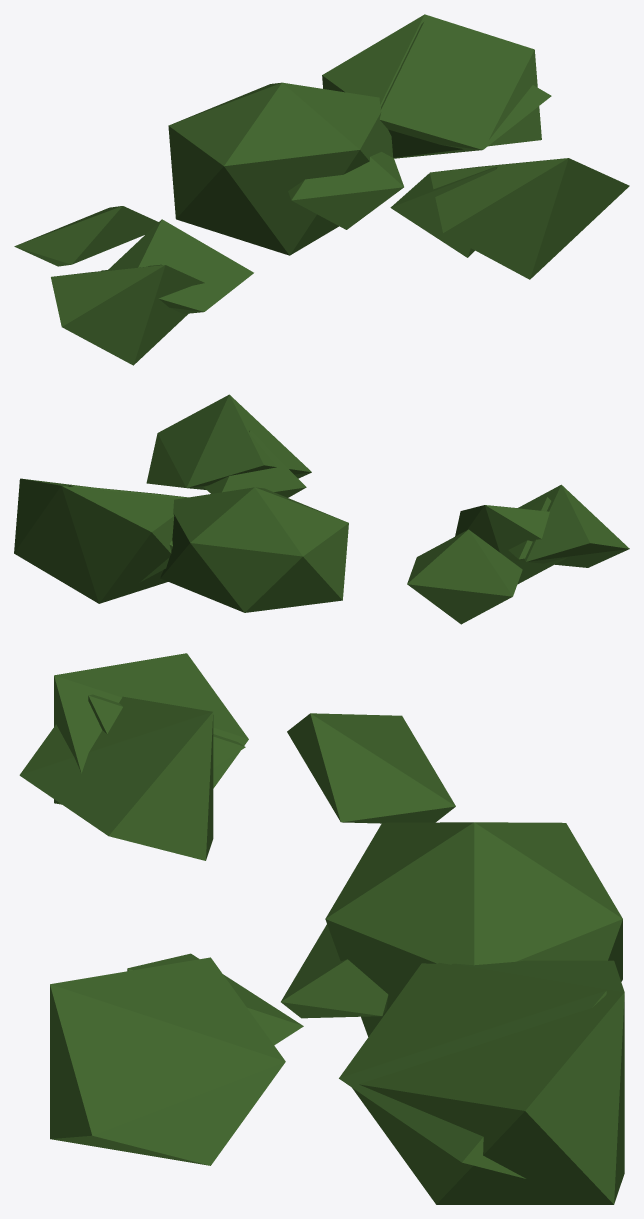
File: tf_seep_growth_lod1.glb
3 renders of one model, top to bottom at view 1: azimuth 30°, elevation 25°; view 2: azimuth 150°, elevation 25°; view 3: azimuth 270°, elevation 25°, orthographic. The views are drawn at different scales.
Visible parts, largest first — view 1: tf_seep_growth_lod1; view 2: tf_seep_growth_lod1; view 3: tf_seep_growth_lod1.
Boxes of the visible parts, x1,y1,x2,y2 form: tf_seep_growth_lod1: [14, 14, 629, 365]; tf_seep_growth_lod1: [14, 394, 629, 624]; tf_seep_growth_lod1: [19, 653, 624, 1204].
Bounding box in the file's own units: 6.6 × 1.51 × 3.45.
